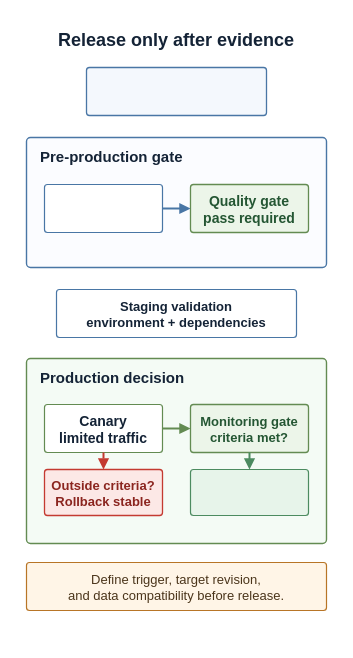
Some shapes in this 353 by 658 pixel diagram are drawn without their labels. The shapes that lost their labels are listed below. From the top down, each one's centre as x and y in pixels, then its label:
(176,91): Release candidate revision + configuration
(103,208): Build + tests expected result
(249,492): Within criteria? Promote revision
